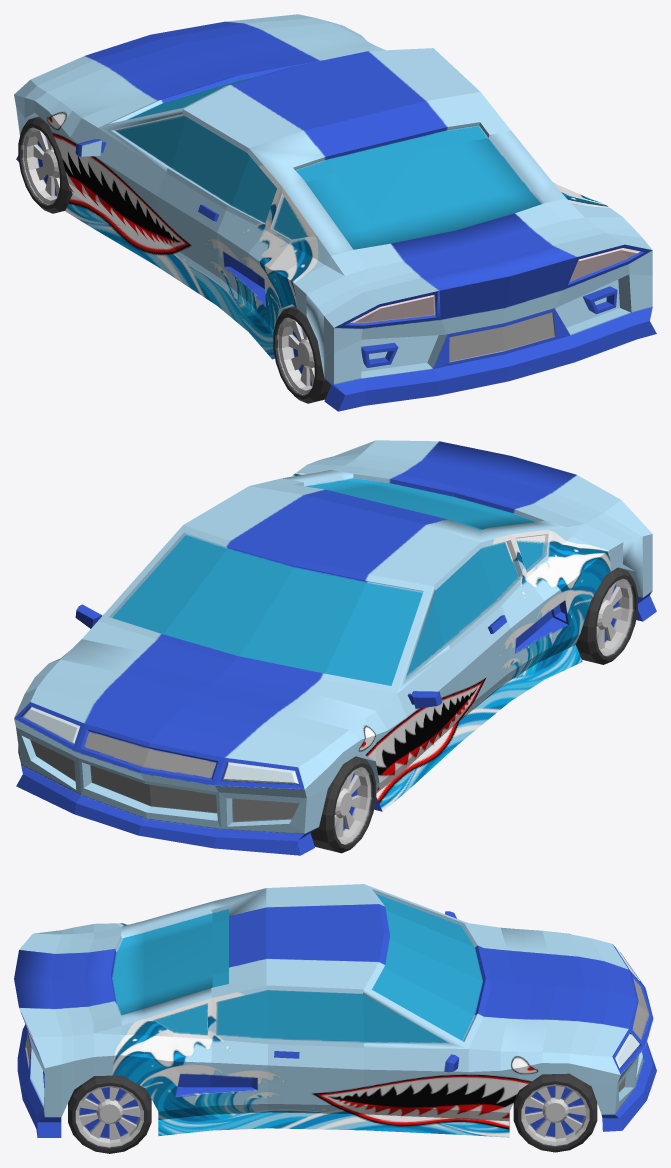
File: Shark_Car.fbx
The picture shows the model from 3 angles, top to bottom: view 1: azimuth 30°, elevation 25°; view 2: azimuth 150°, elevation 25°; view 3: azimuth 270°, elevation 25°; orthographic projection. The views are drawn at different scales.
Parts seen in each view (by area): view 1: body, wheel.1, wheel; view 2: body, wheel, wheel.1; view 3: body, wheel, wheel.1.
Part boxes in pixels (x1=…): body: x1=14, y1=14, x2=656, y2=411; wheel.1: x1=273, y1=306, x2=331, y2=403; wheel: x1=18, y1=116, x2=72, y2=213; body: x1=14, y1=440, x2=656, y2=855; wheel: x1=18, y1=746, x2=376, y2=853; wheel.1: x1=576, y1=568, x2=637, y2=664; body: x1=14, y1=884, x2=656, y2=1137; wheel: x1=513, y1=1073, x2=597, y2=1152; wheel.1: x1=68, y1=1075, x2=151, y2=1153.
Bounding box in the file's own units: 216 × 102 × 383.
Materials: 1 (1 with a texture image).
